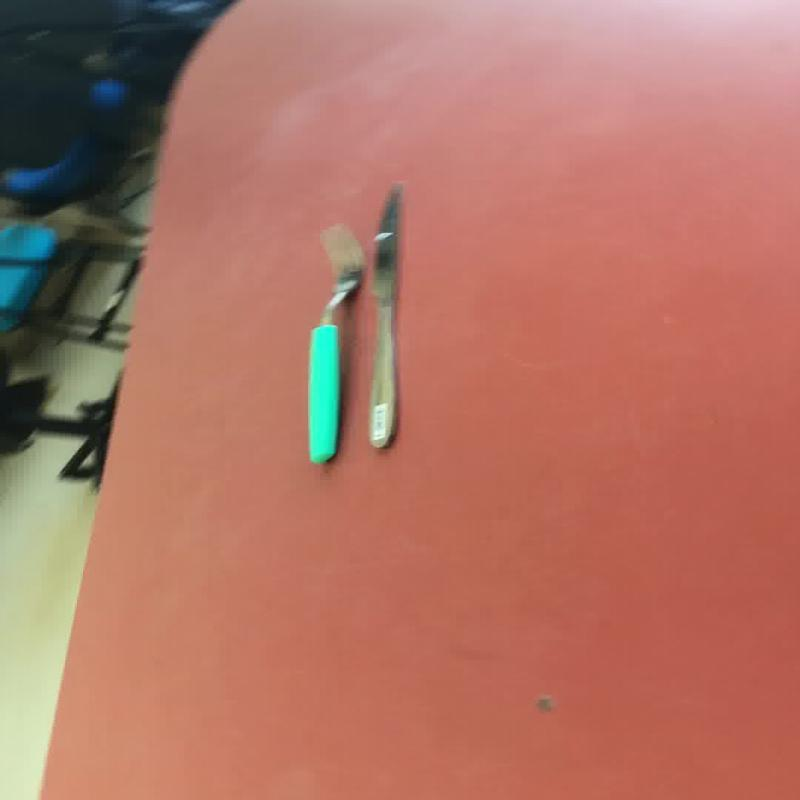fork: (304, 222, 364, 464)
knife: (304, 222, 364, 464), (366, 180, 404, 449)
